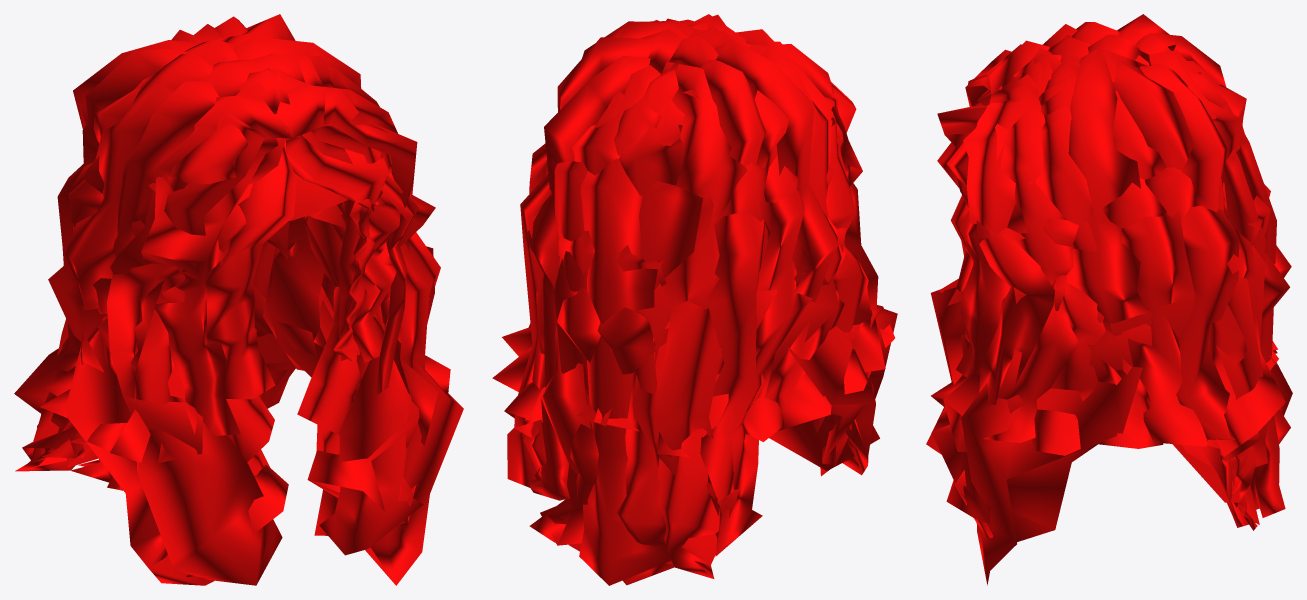
File: punkduck_alpha7_curly2_F.glb
3 renders of one model, left to right at view 1: azimuth 30°, elevation 25°; view 2: azimuth 150°, elevation 25°; view 3: azimuth 270°, elevation 25°, orthographic. The views are drawn at different scales.
Bounding box in the file's own units: 0.3238 × 0.464 × 0.3098.
1 material, 1 textured.
